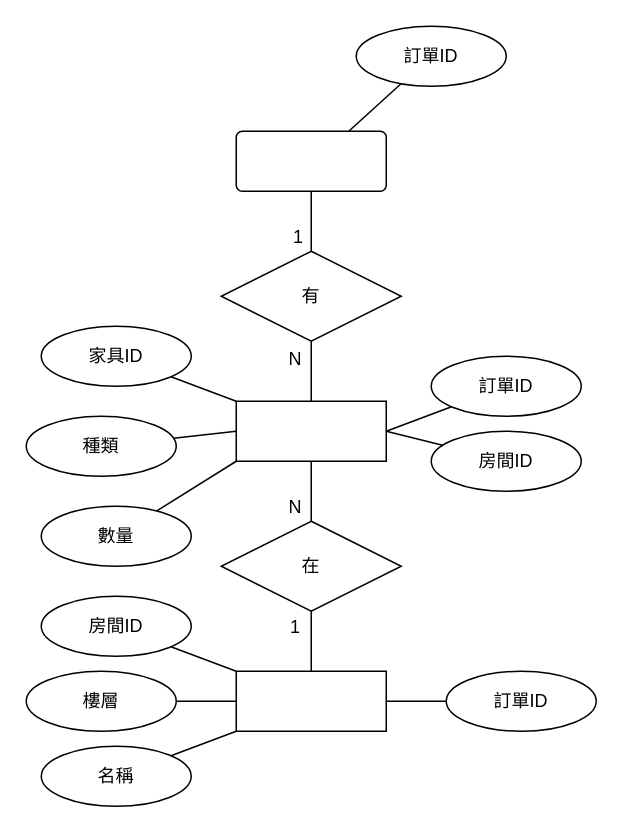
Some shapes in this 623 by 833 pixel diagram are drawn without their labels. The box of each missing label's shape, as (x1, y1, x2, y2) in pixels:
家具: (235, 400, 386, 461)
房間: (235, 670, 386, 731)
訂單: (235, 130, 386, 191)
